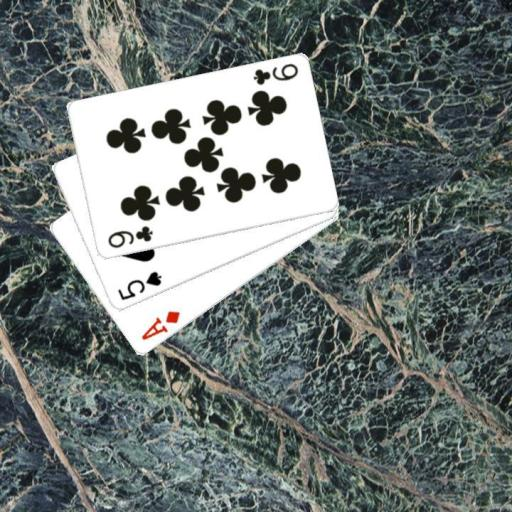5S: (114, 268, 163, 302)
9C: (104, 223, 154, 250), (250, 60, 300, 87)
AD: (138, 308, 181, 342)
